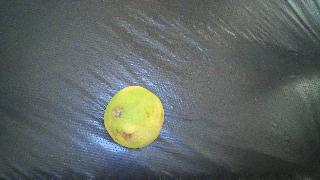DESECHO: (104, 86, 164, 148)
